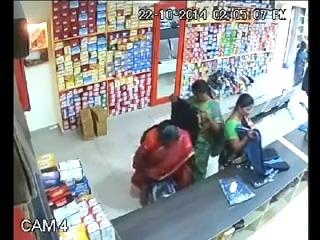shoplifting: (128, 125, 198, 203)
